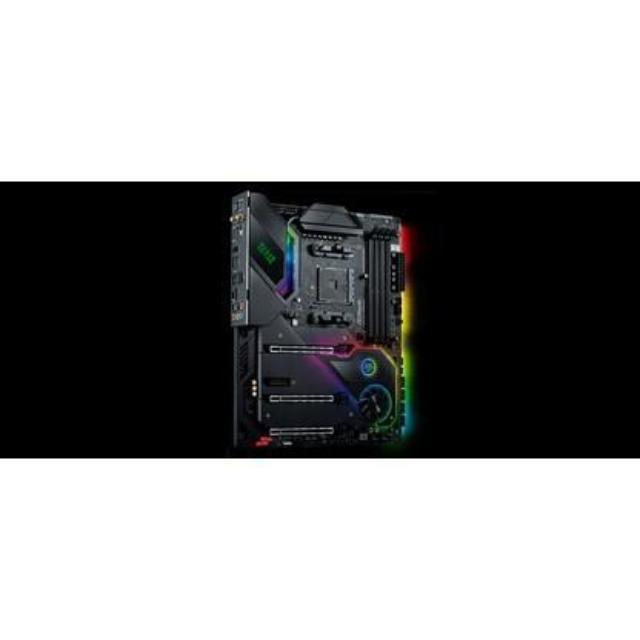Mainboard: (224, 190, 416, 452)
